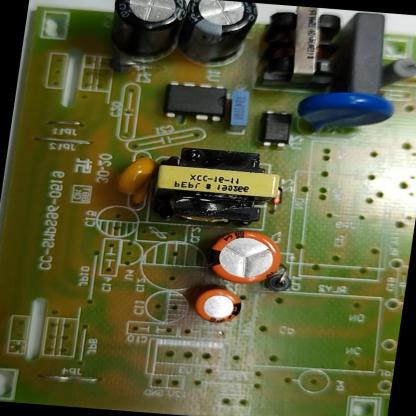Cap1: (199, 221, 291, 290)
Cap2: (187, 280, 248, 329)
Cap3: (170, 0, 264, 70)
Cap4: (102, 0, 192, 66)
MOSFET: (159, 75, 235, 125)
Mov: (288, 82, 401, 144)
Resistor: (374, 52, 416, 92)
Transformer: (145, 141, 288, 233), (250, 3, 352, 98)
